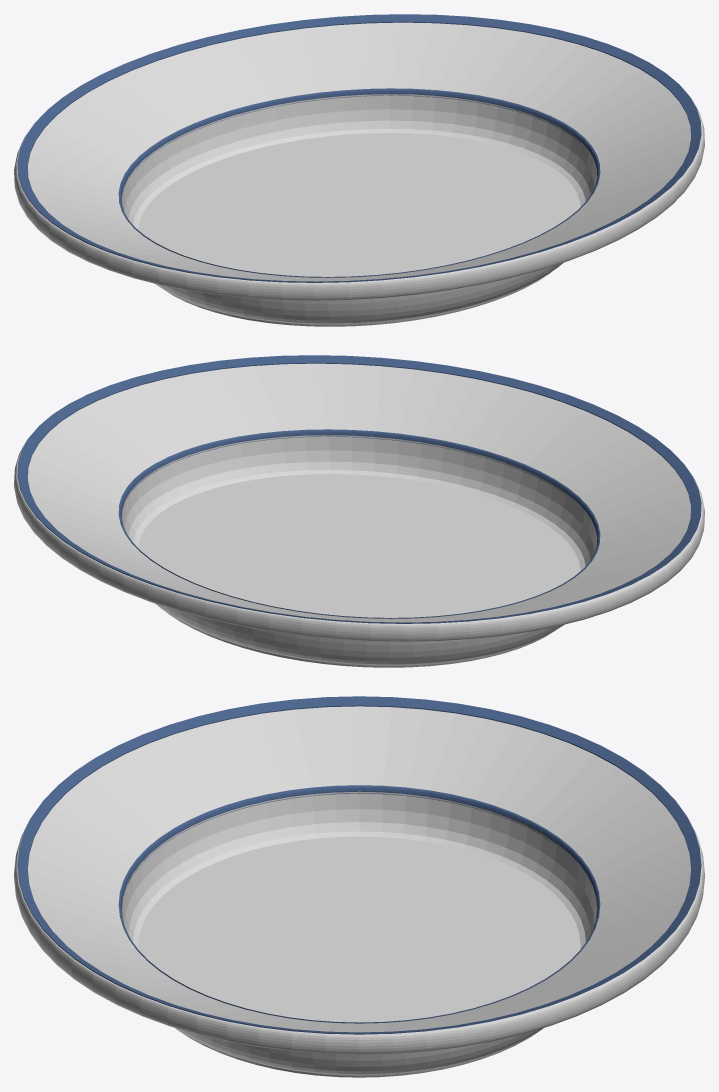
File: plate.glb
3 renders of one model, top to bottom at view 1: azimuth 30°, elevation 25°; view 2: azimuth 150°, elevation 25°; view 3: azimuth 270°, elevation 25°, orthographic. The views are drawn at different scales.
Visible parts, largest first — view 1: Mesh_Mesh_head_geo.001_lambert2SG.001; view 2: Mesh_Mesh_head_geo.001_lambert2SG.001; view 3: Mesh_Mesh_head_geo.001_lambert2SG.001.
Boxes of the visible parts, x1=… form: Mesh_Mesh_head_geo.001_lambert2SG.001: x1=14, y1=14, x2=704, y2=326; Mesh_Mesh_head_geo.001_lambert2SG.001: x1=14, y1=355, x2=704, y2=667; Mesh_Mesh_head_geo.001_lambert2SG.001: x1=14, y1=696, x2=704, y2=1077.
Size of the model in its own units: 0.035 by 0.005 by 0.03.
